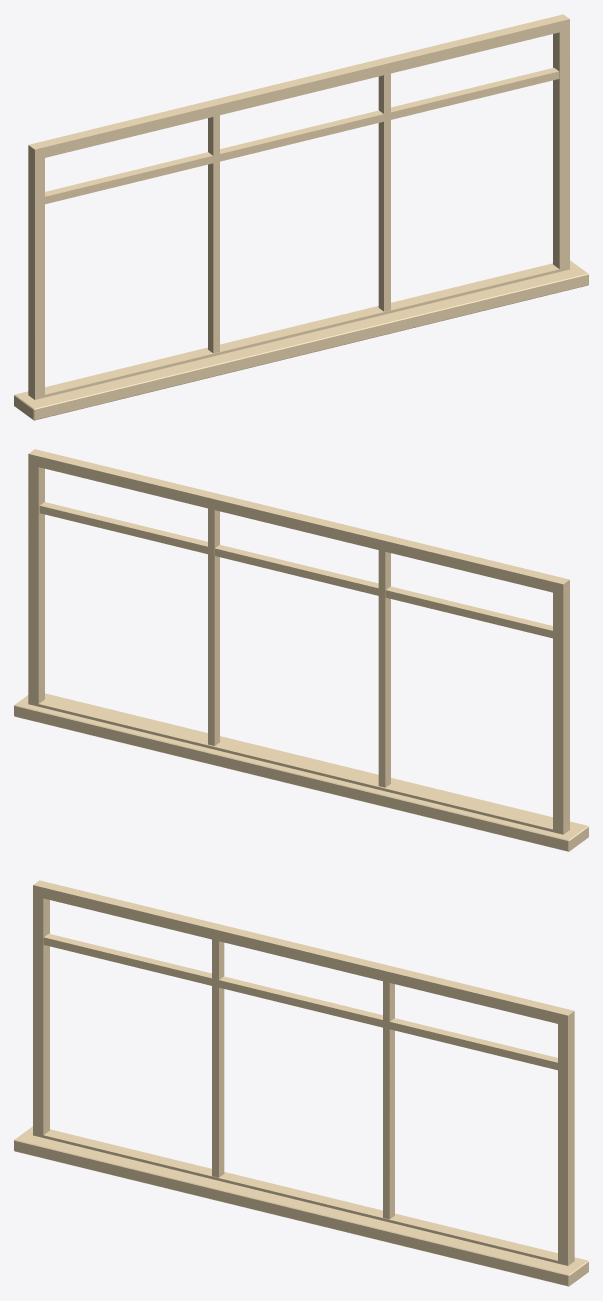
The model's file is shop-window.fbx.
The picture shows the model from 3 angles, top to bottom: view 1: azimuth 30°, elevation 25°; view 2: azimuth 150°, elevation 25°; view 3: azimuth 330°, elevation 25°; orthographic projection.
Parts seen in each view (by area): view 1: shop-window; view 2: shop-window; view 3: shop-window.
Boxes of the visible parts, left/top/right/bottom form: shop-window: left=14, top=14, right=588, bottom=420; shop-window: left=14, top=449, right=588, bottom=851; shop-window: left=14, top=880, right=588, bottom=1286.
Size of the model in its own units: 5400 by 2435 by 340.
Materials: 1 (1 with a texture image).
